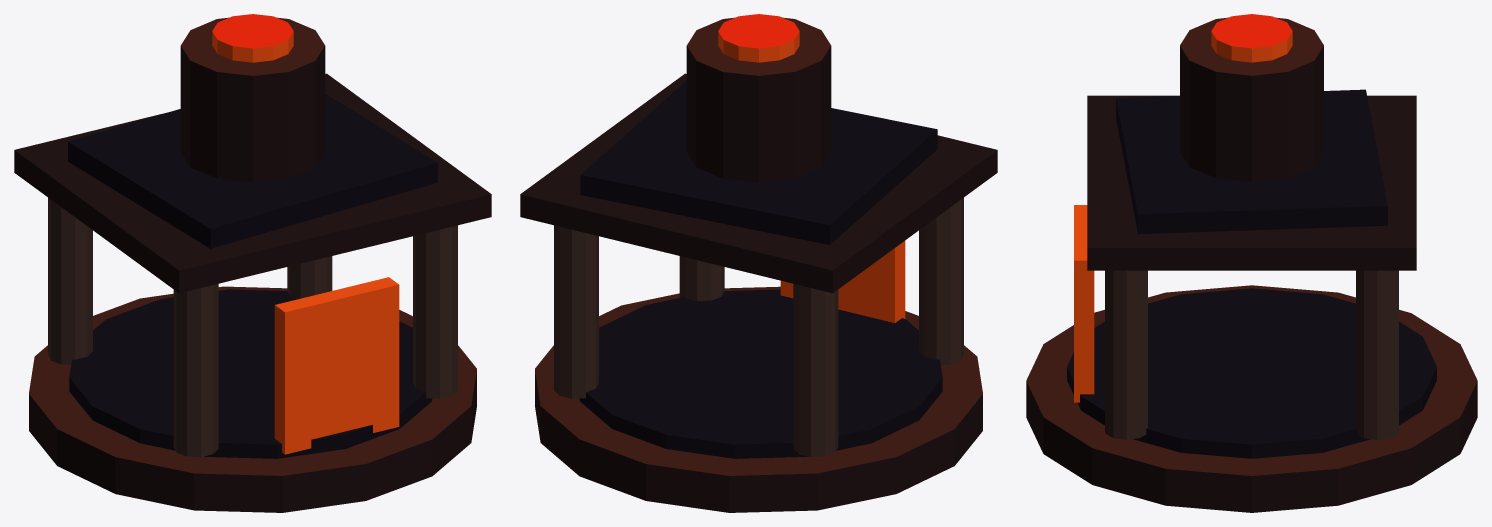
The model's file is forge_temple.obj.
3 views of the same model, side by side, from view 1: azimuth 30°, elevation 25°; view 2: azimuth 150°, elevation 25°; view 3: azimuth 270°, elevation 25° (orthographic).
Parts seen in each view (by area): view 1: forge_temple; view 2: forge_temple; view 3: forge_temple.
Boxes of the visible parts, left/top/right/bottom form: forge_temple: left=14, top=14, right=491, bottom=512; forge_temple: left=520, top=14, right=997, bottom=512; forge_temple: left=1026, top=14, right=1477, bottom=512.
Bounding box in the file's own units: 14.4 × 13.6 × 14.4.
